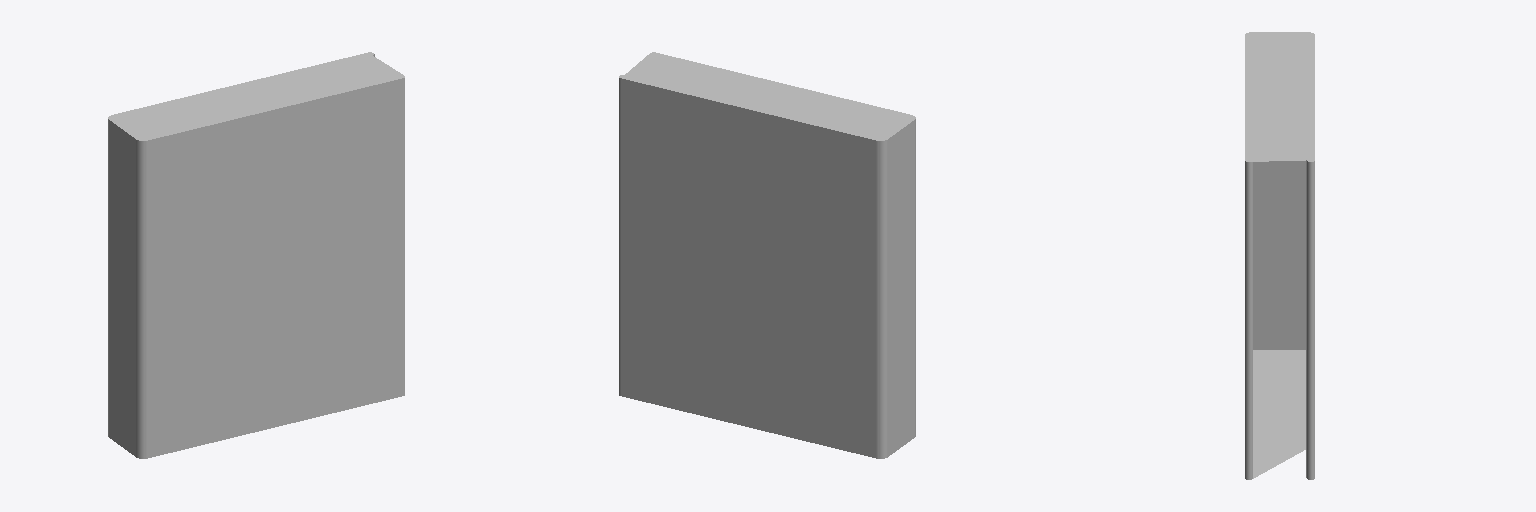
The model's file is books__19.obj.
The picture shows the model from 3 angles: view 1: azimuth 30°, elevation 25°; view 2: azimuth 150°, elevation 25°; view 3: azimuth 270°, elevation 25°; orthographic projection.
Parts seen in each view (by area): view 1: grp19; view 2: grp19; view 3: grp19.
Part boxes in pixels (left/top/right/bottom): grp19: left=108, top=52, right=404, bottom=458; grp19: left=619, top=52, right=915, bottom=458; grp19: left=1245, top=32, right=1314, bottom=479.
Size of the model in its own units: 161 by 184 by 36.8.